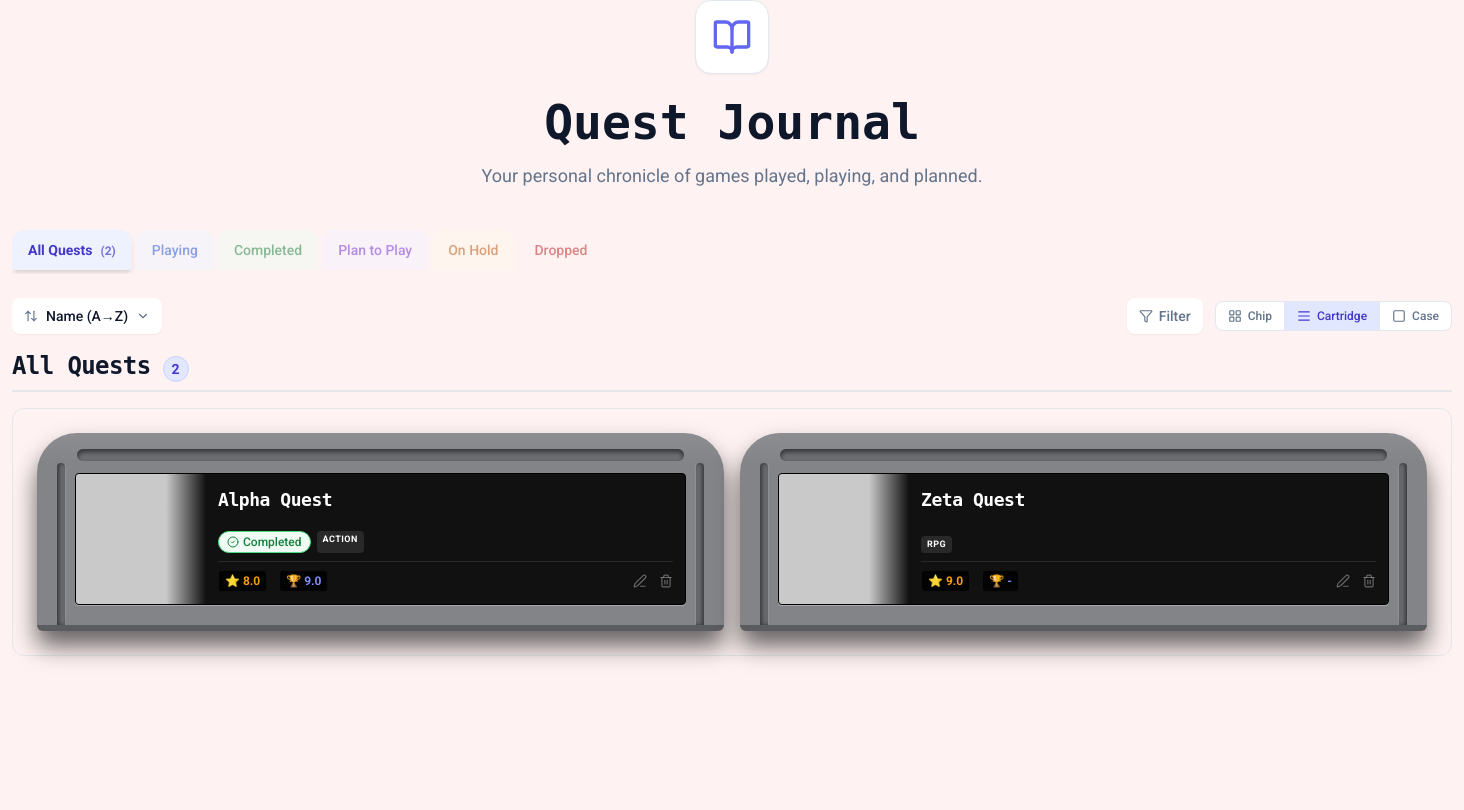
Journal Functions › should filter games by genre in MyListPage
The image size is (1464, 810).
Expected: the heading "Alpha Quest" is shown, [218,489,332,510]
Note: Open filters
Click the button "Filter". click: (1165, 316)
box: [1127,298,1203,334]
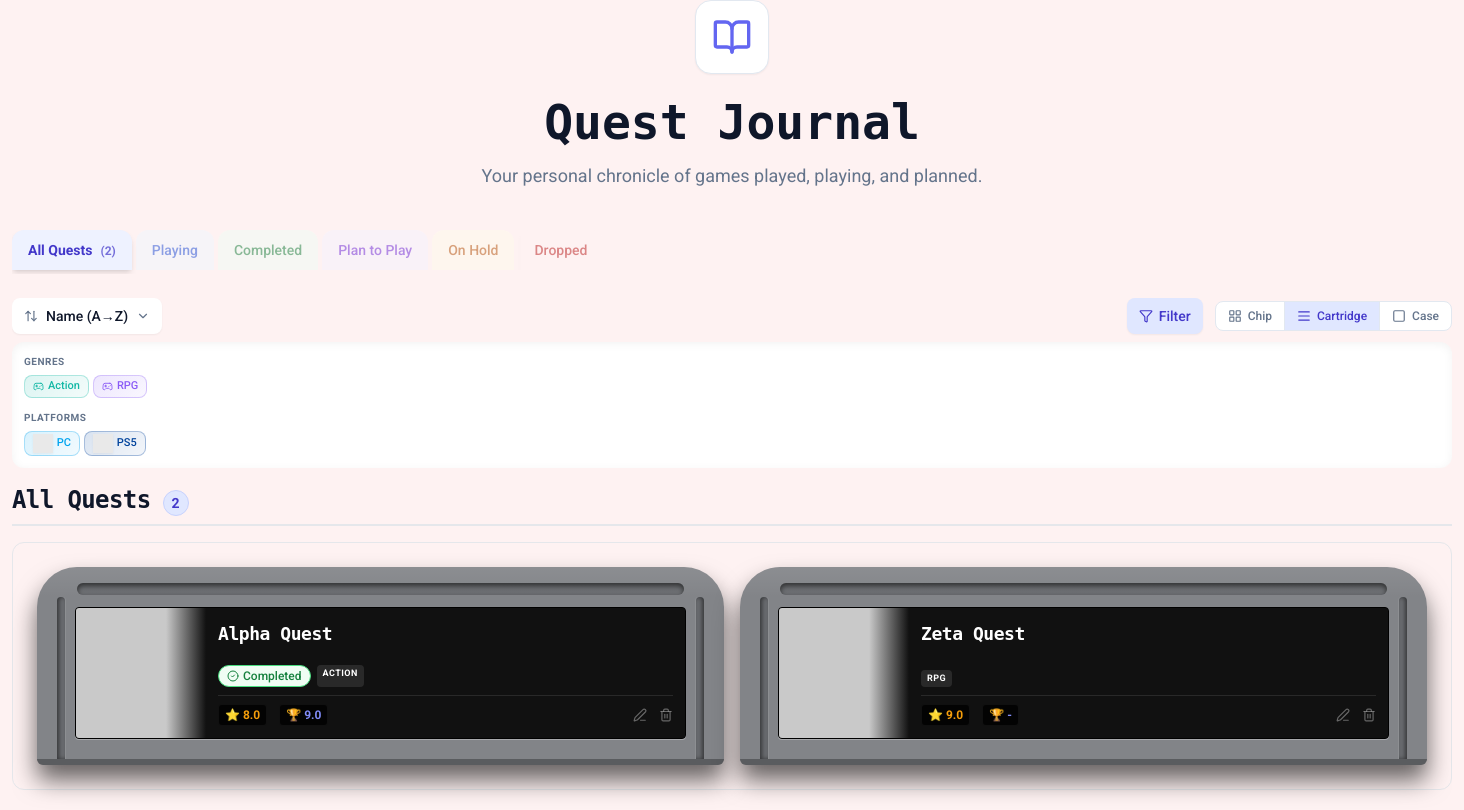
Click the button "Action". click: (56, 386)
box: [24,375,89,398]
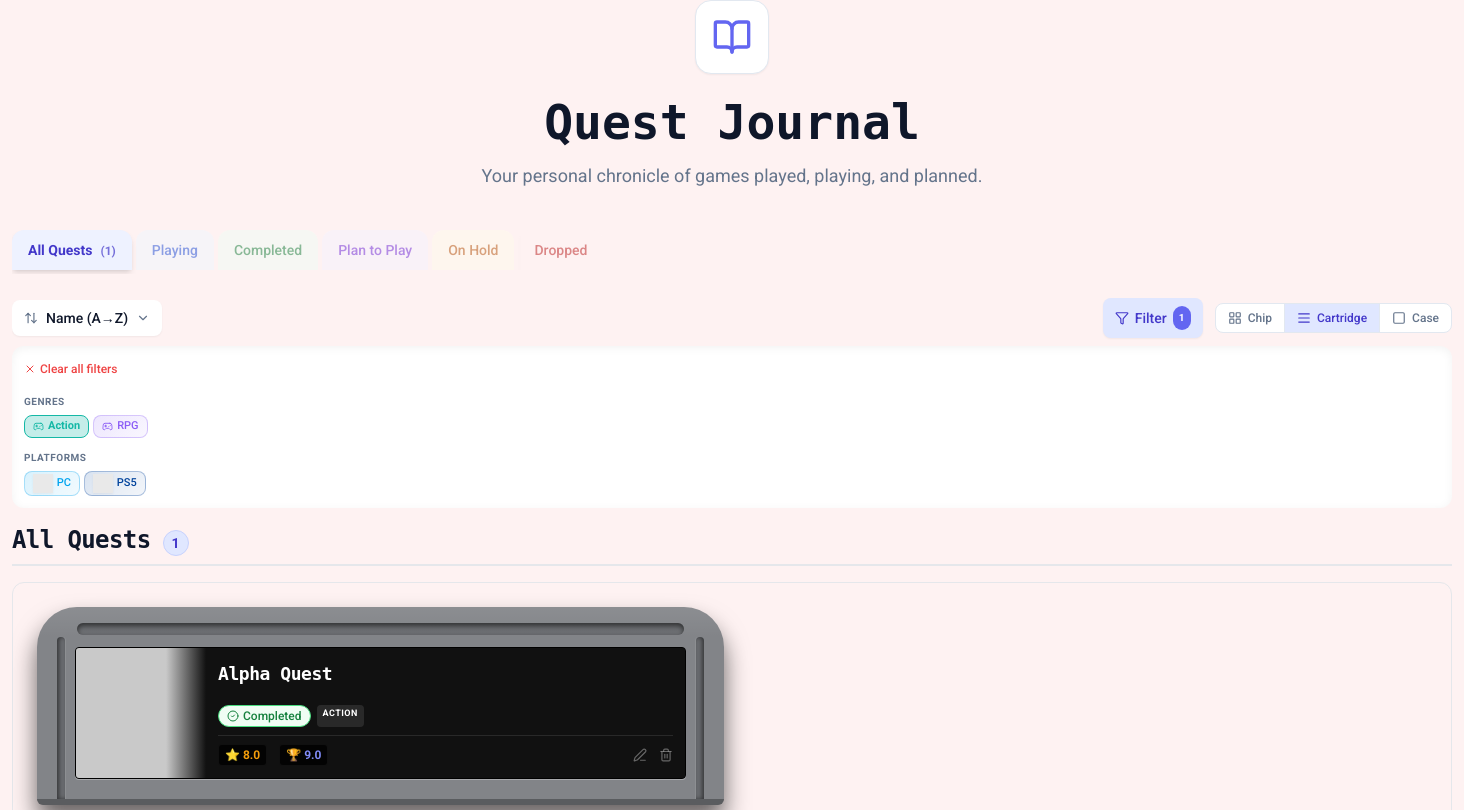
Expected: the heading "Alpha Quest" is shown, [218,663,332,684]
Now the heading "Zeta Quest" is gone
